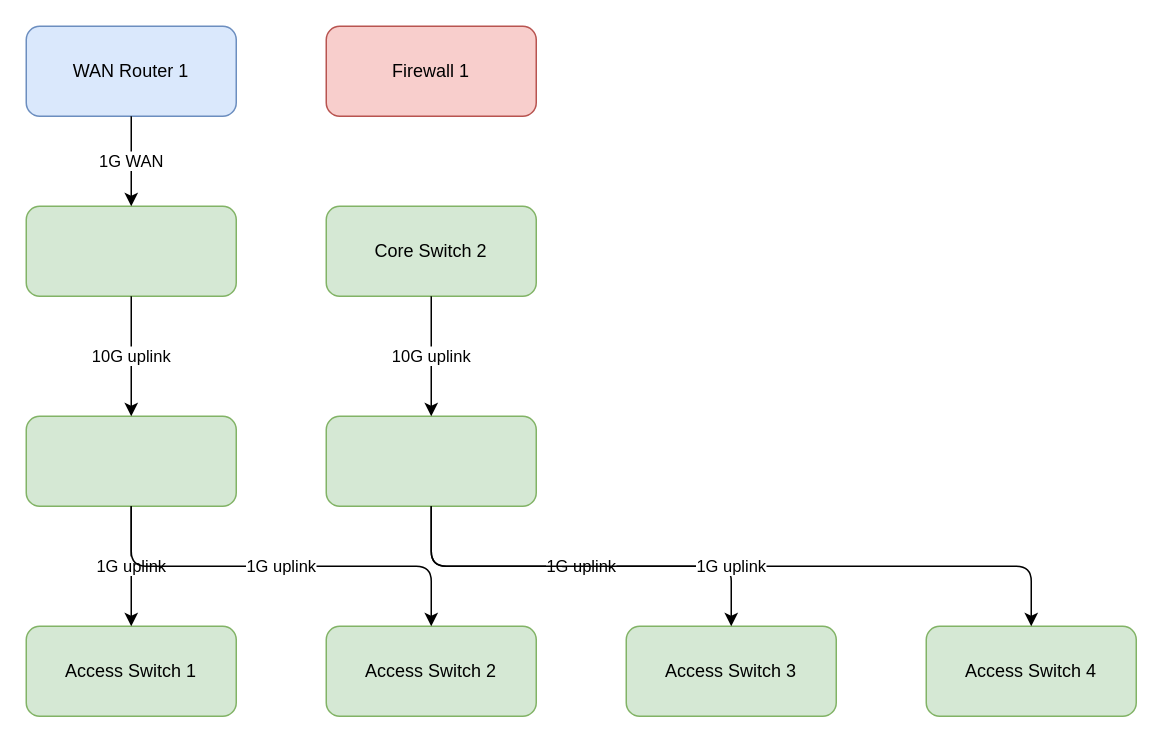
Image size: 1163x743. Some labels were removed from this diagram. The shapes that lost their labels are listed below. From the top down, each one's box as (x1, y1, x2, y2) in pixels, then its label:
(25, 205, 236, 296): Core Switch 1
(25, 415, 236, 506): Distribution Switch 1
(325, 415, 536, 506): Distribution Switch 2
